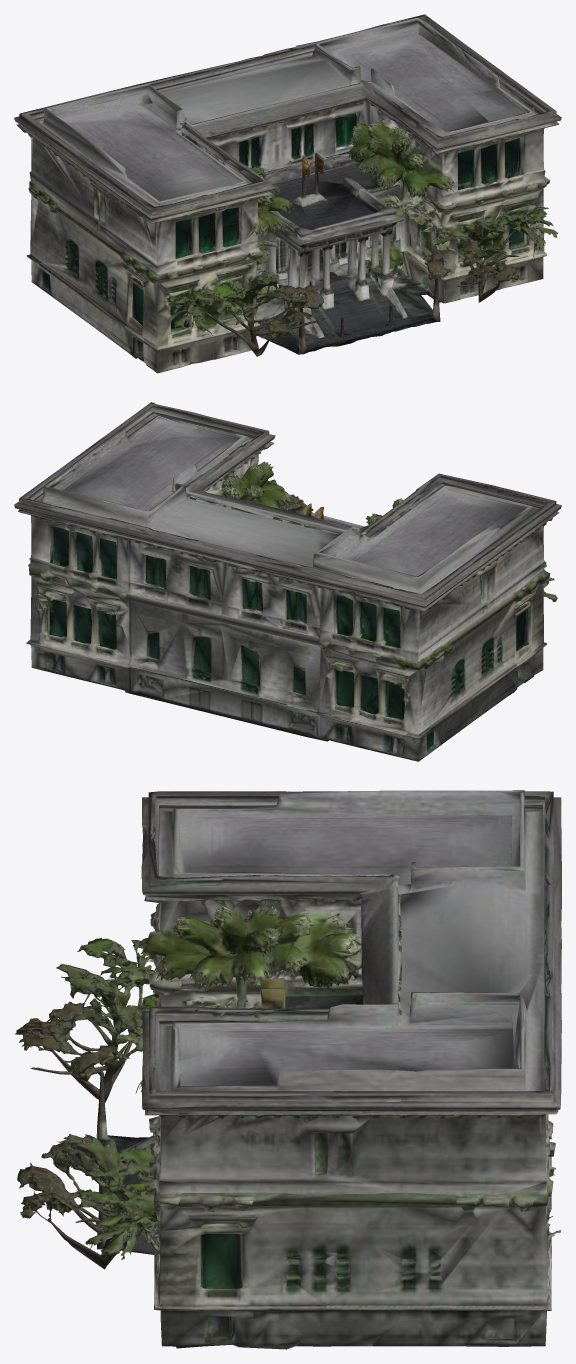
File: nhnn.glb
The picture shows the model from 3 angles, top to bottom: view 1: azimuth 30°, elevation 25°; view 2: azimuth 150°, elevation 25°; view 3: azimuth 270°, elevation 25°; orthographic projection. The views are drawn at different scales.
Visible parts, largest first — view 1: Mesh_0; view 2: Mesh_0; view 3: Mesh_0.
Boxes of the visible parts, x1,y1,x2,y2 form: Mesh_0: (14,14,561,373); Mesh_0: (14,402,561,761); Mesh_0: (14,790,561,1349).
Size of the model in its own units: 1.91 by 0.8075 by 1.44.
1 material, 1 textured.
